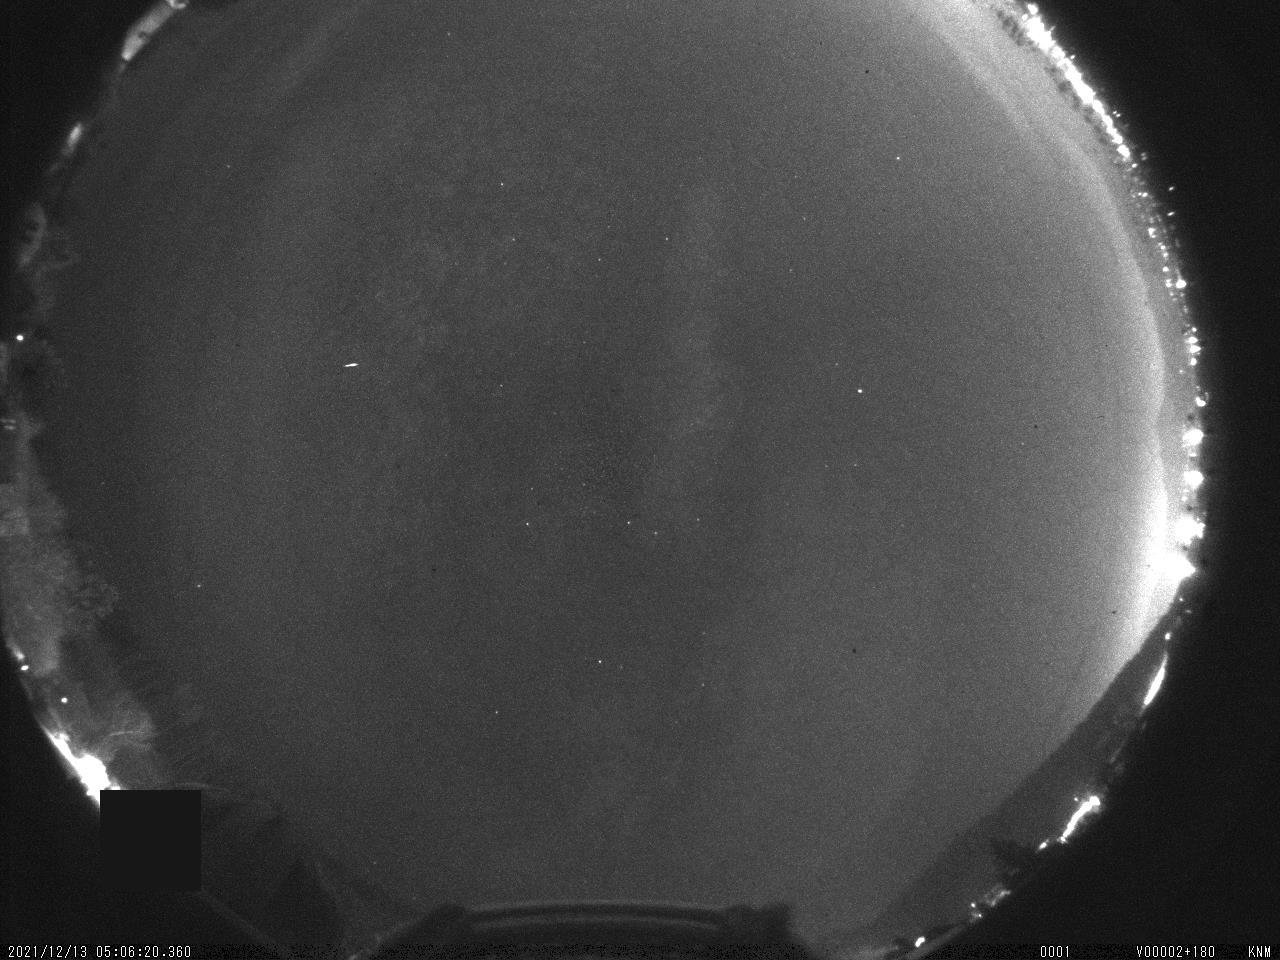meteor: (342, 362, 360, 368)
